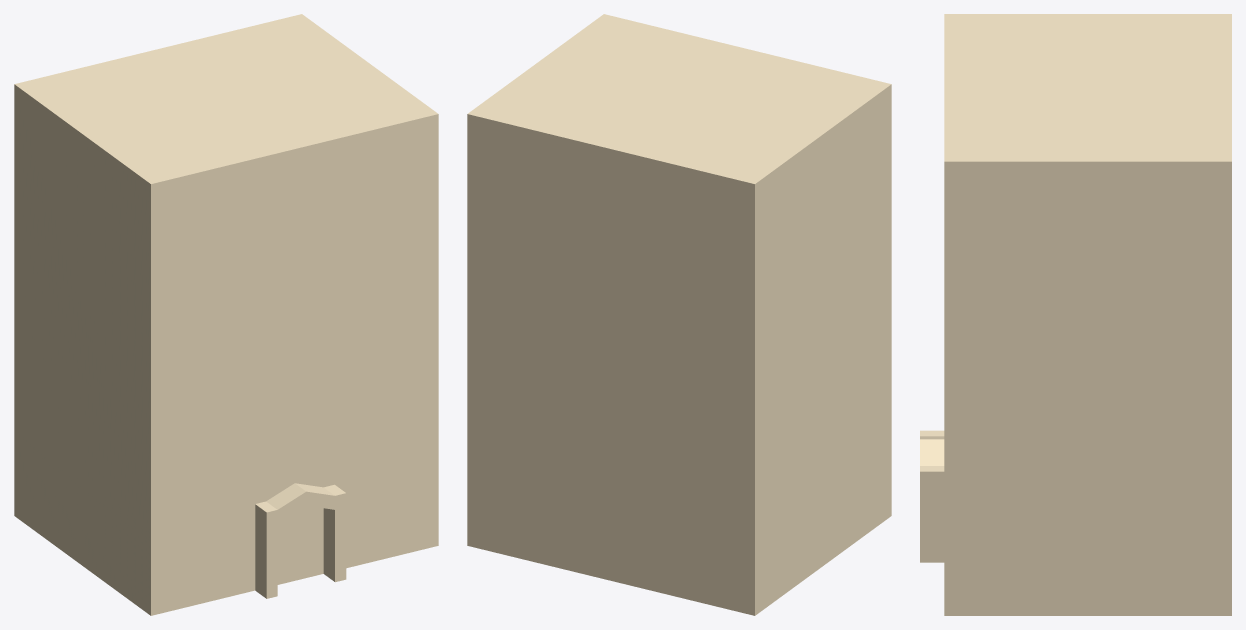
File: Mehrfamilienhaus.fbx
3 renders of one model, left to right at view 1: azimuth 30°, elevation 25°; view 2: azimuth 150°, elevation 25°; view 3: azimuth 270°, elevation 25°, orthographic. The views are drawn at different scales.
Visible parts, largest first — view 1: Cube; view 2: Cube; view 3: Cube.
Part boxes in pixels (x1=…): Cube: x1=14, y1=14, x2=438, y2=615; Cube: x1=467, y1=14, x2=891, y2=615; Cube: x1=920, y1=14, x2=1231, y2=615.
Bounding box in the file's own units: 2235 × 3205 × 1994.
